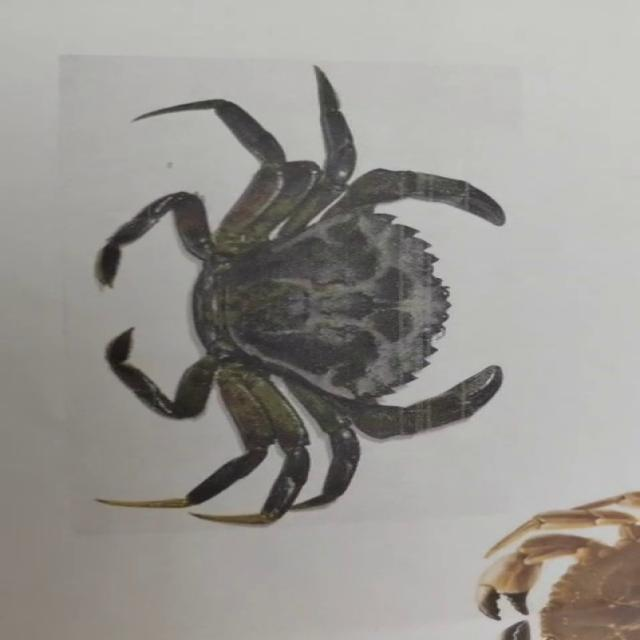egc: (96, 66, 503, 524)
